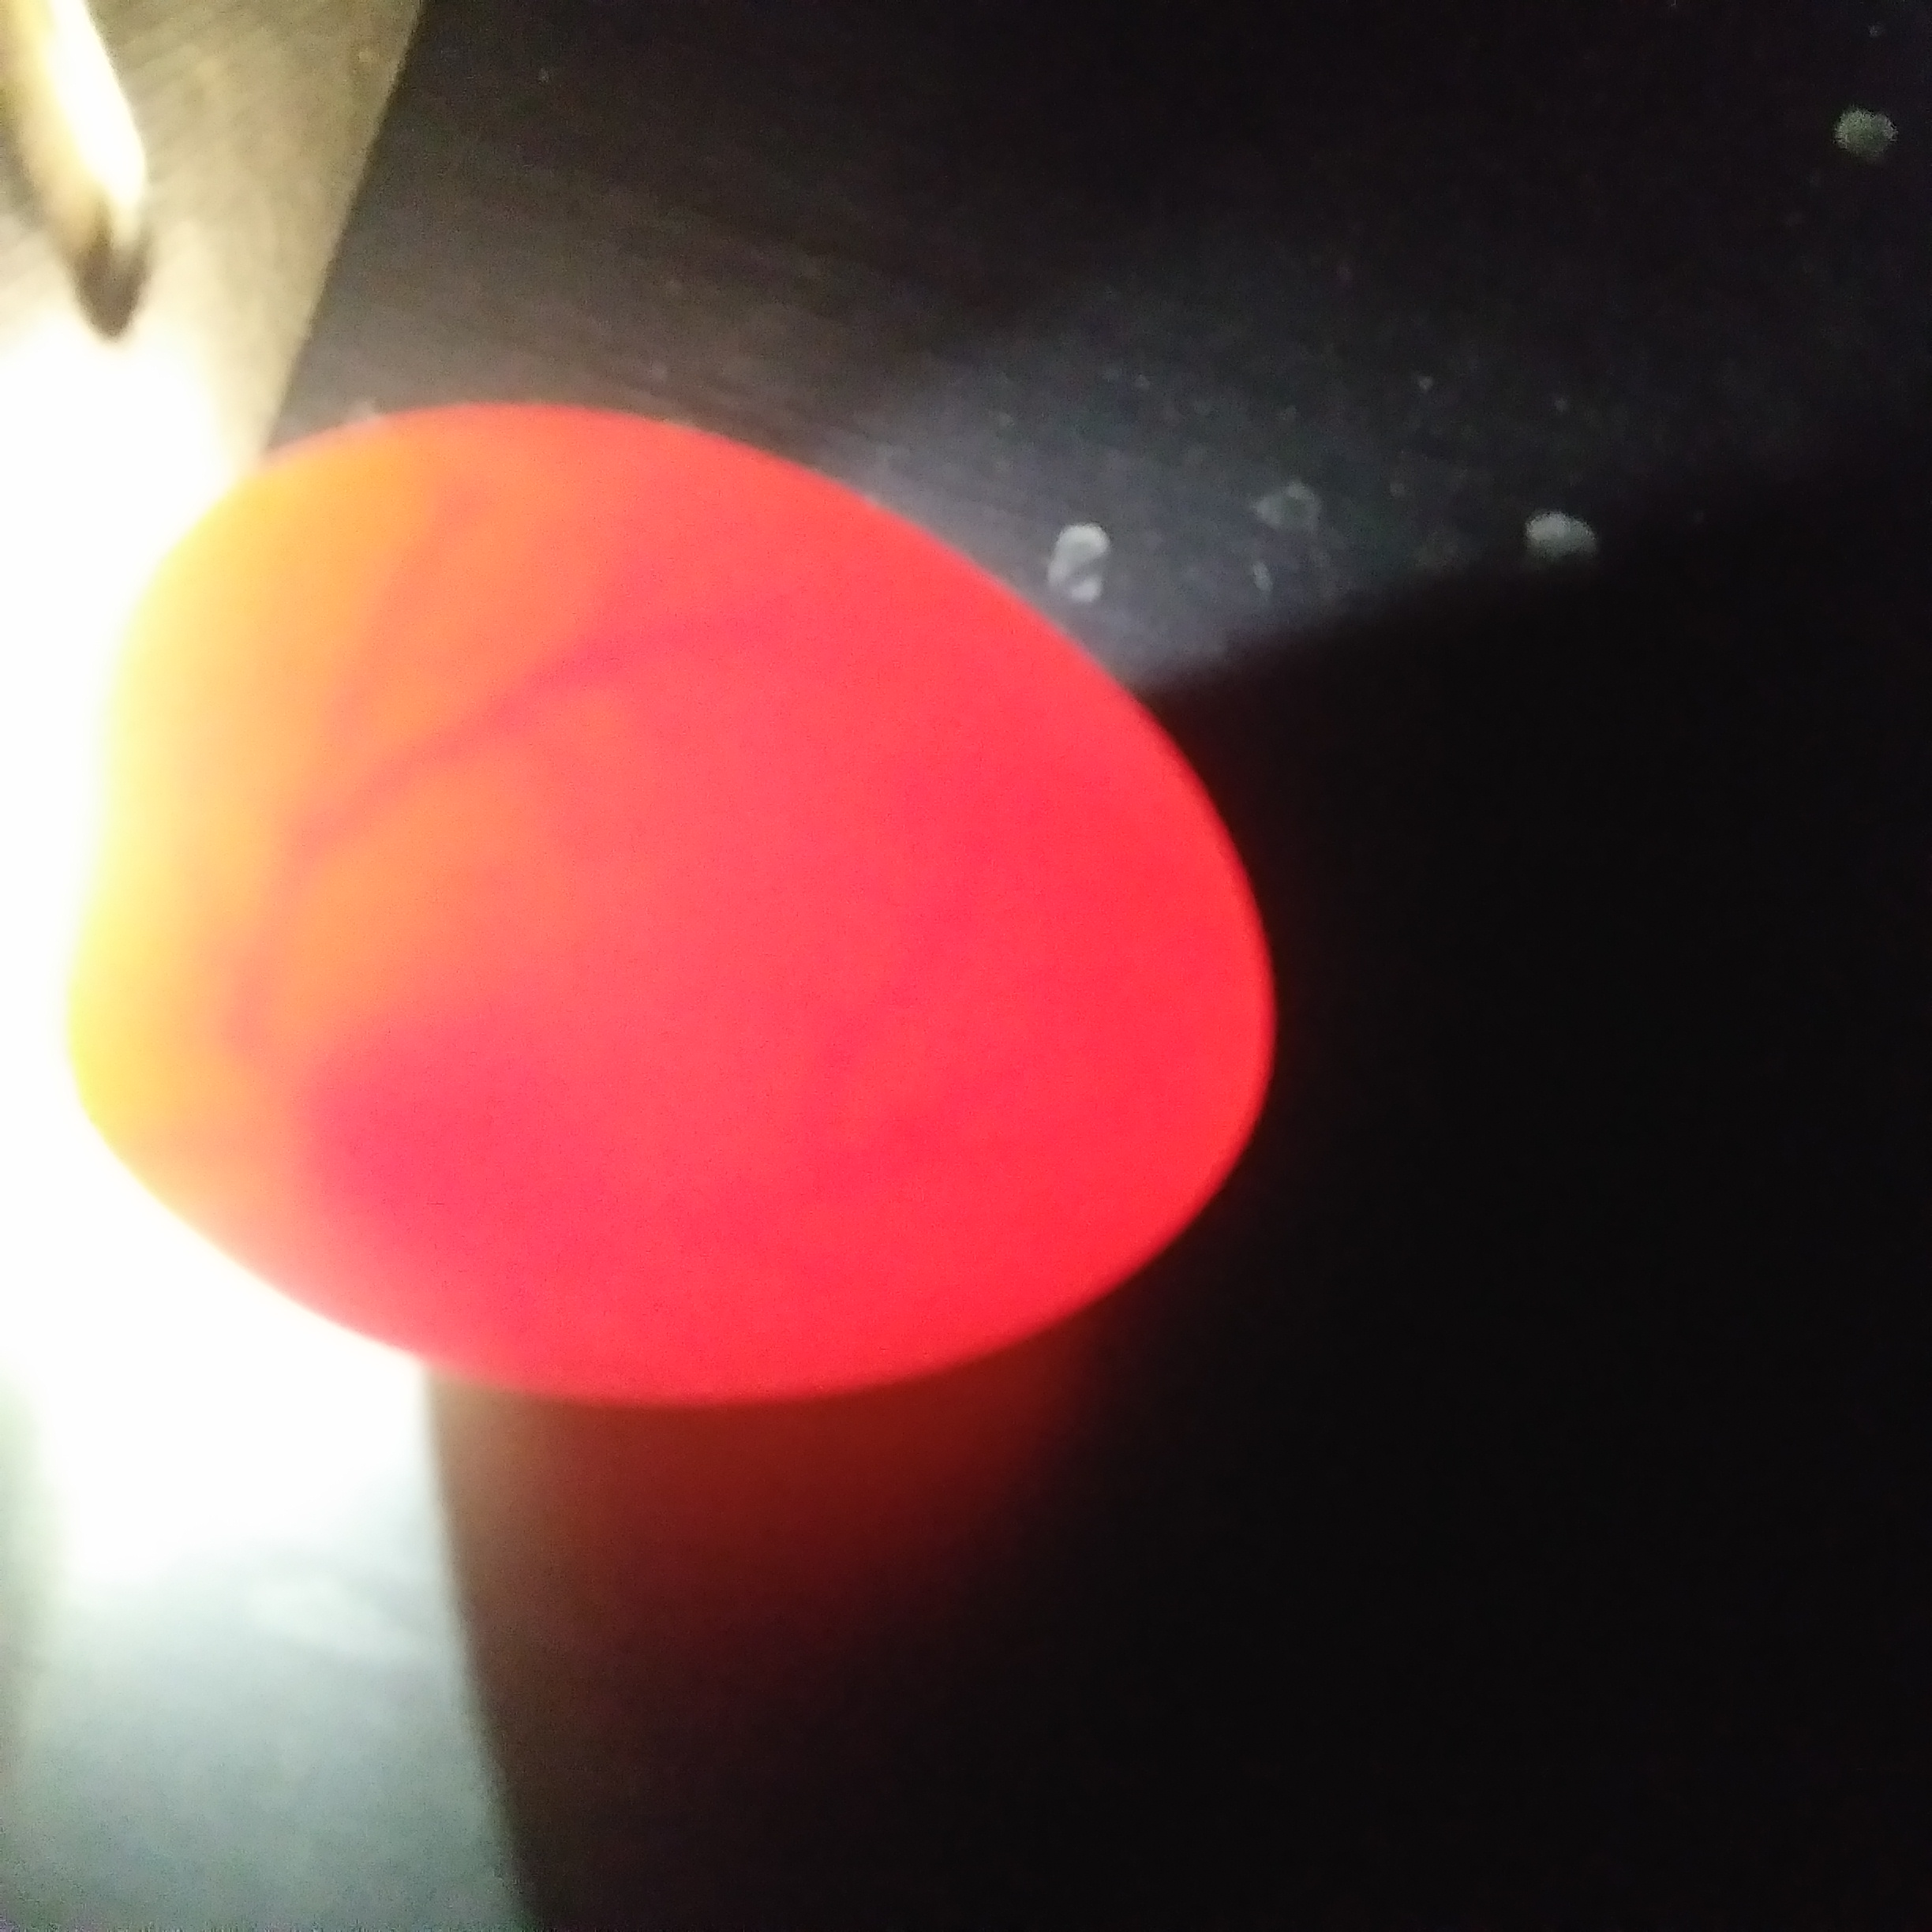bloodcell: (646, 835, 1095, 1322), (205, 609, 614, 936)
embryo: (303, 1072, 464, 1226)
